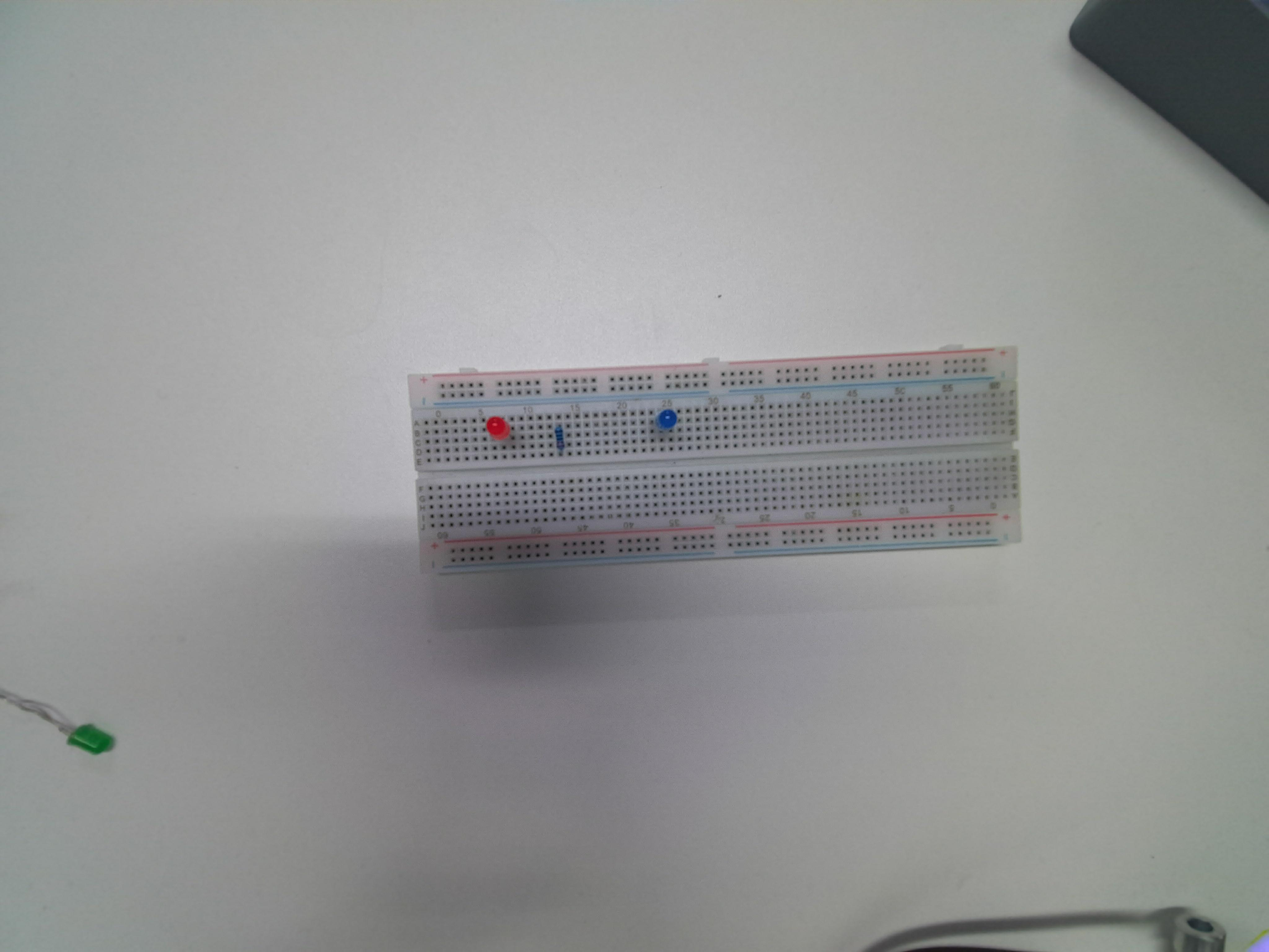base: (408, 347, 1024, 581)
blue-led: (654, 402, 682, 435)
green-led: (65, 721, 117, 771)
red-led: (486, 415, 512, 442)
resistor-small: (551, 423, 569, 453)
